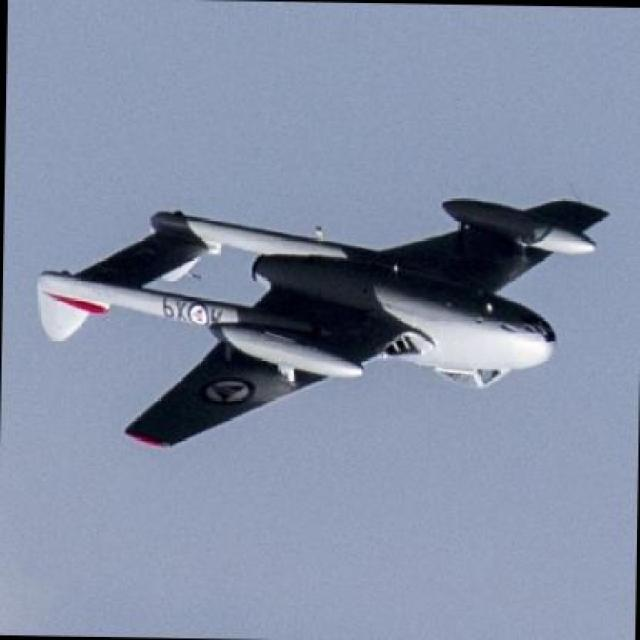iha: (14, 182, 627, 457)
